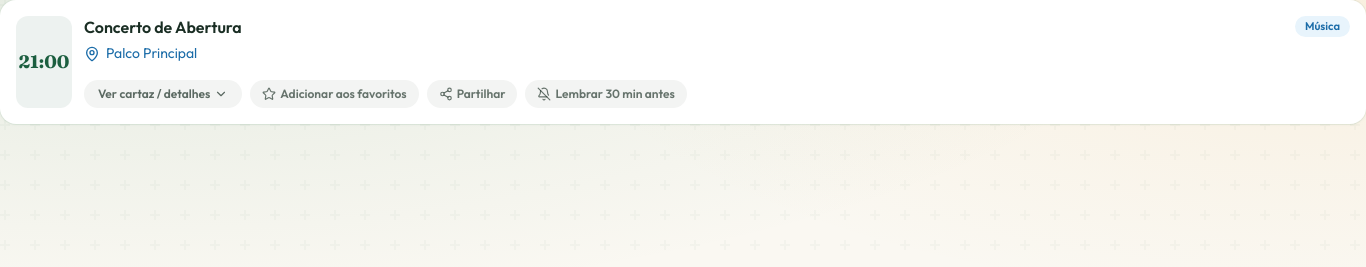
Test: EventCard › expands description details
Click the button "Ver cartaz / detalhes" at (163, 94), box [84,80,242,108]
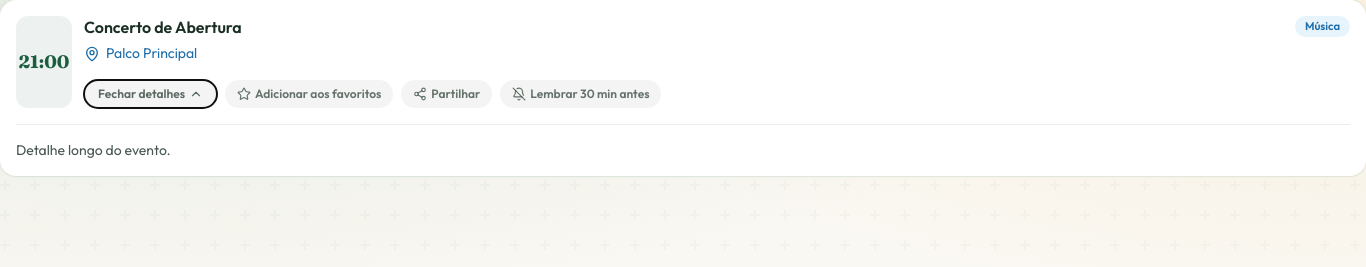
Now the list item "Detalhe longo do evento." is shown, box [16,141,171,159]
